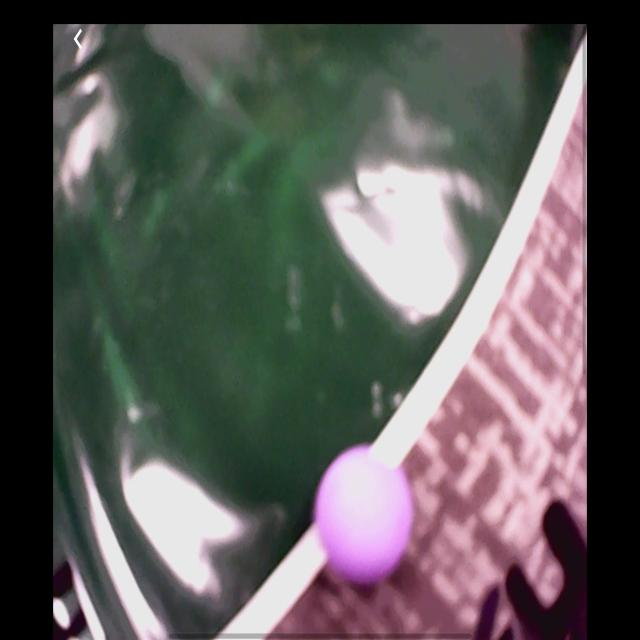ball: (315, 451, 411, 583)
